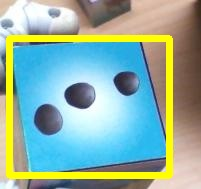Blue3: (9, 38, 169, 175)
